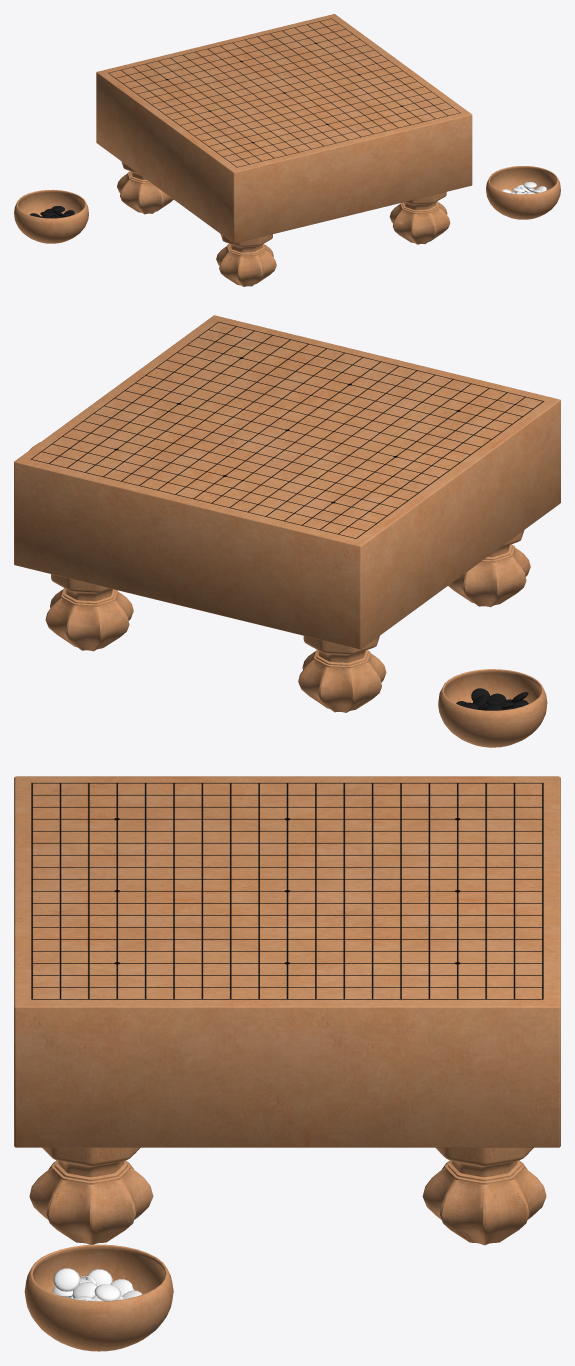
The model's file is goboard.draco.glb.
The picture shows the model from 3 angles, top to bottom: view 1: azimuth 30°, elevation 25°; view 2: azimuth 150°, elevation 25°; view 3: azimuth 270°, elevation 25°; orthographic projection. The views are drawn at different scales.
Visible parts, largest first — view 1: Board, Plane.001, Feet, Sphere, Sphere_Old Wood_0.001; view 2: Board, Plane.001, Feet, Sphere, Stone Black.196; view 3: Board, Plane.001, Feet, Sphere_Old Wood_0.001, Stone Black.196_black_0.001.
Part boxes in pixels (box(x1,y1,x2,y2)): Board: box(96, 14, 472, 243); Plane.001: box(108, 18, 460, 167); Feet: box(117, 161, 450, 286); Sphere: box(14, 189, 88, 243); Sphere_Old Wood_0.001: box(486, 166, 560, 219); Board: box(14, 315, 560, 649); Plane.001: box(30, 322, 543, 538); Feet: box(45, 530, 530, 712); Sphere: box(438, 669, 547, 747); Stone Black.196: box(456, 688, 528, 710); Board: box(14, 776, 560, 1147); Plane.001: box(31, 783, 543, 999); Feet: box(29, 1147, 546, 1245); Sphere_Old Wood_0.001: box(24, 1244, 173, 1351); Stone Black.196_black_0.001: box(52, 1268, 142, 1301).
Bounding box in the file's own units: 0.9395 × 0.2693 × 0.5061.
Materials: 6 (4 with a texture image).
